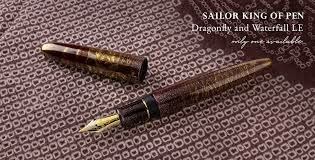pen: (72, 59, 269, 136)
